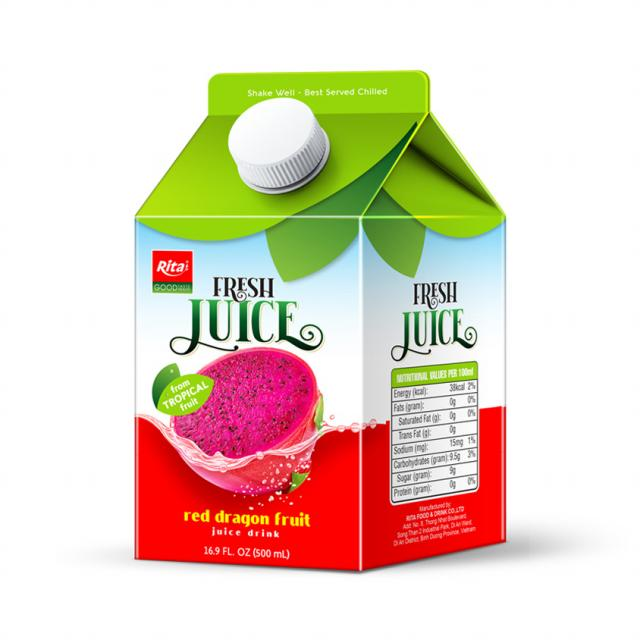non_white_jug: (131, 28, 535, 579)
